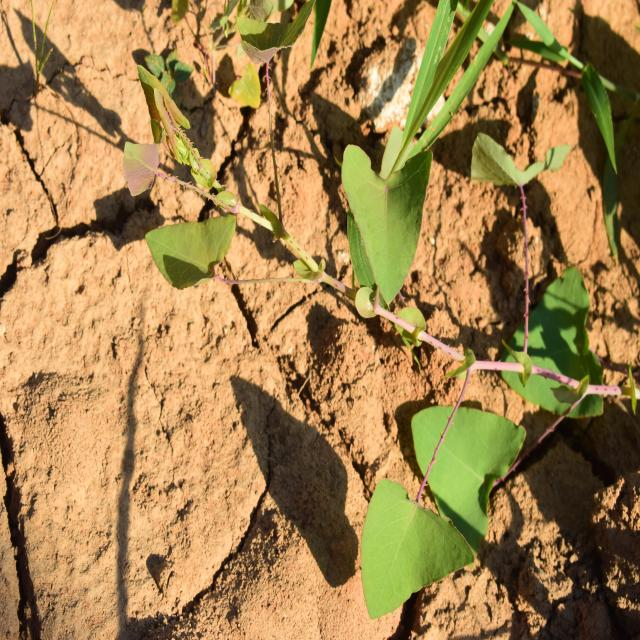Asiatic_Smartweed: (125, 17, 345, 312), (458, 120, 602, 416), (356, 397, 550, 603), (332, 128, 448, 322)
